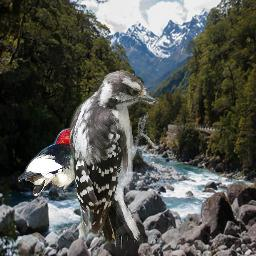Woodpecker: (69, 70, 160, 249), (18, 128, 102, 197)
